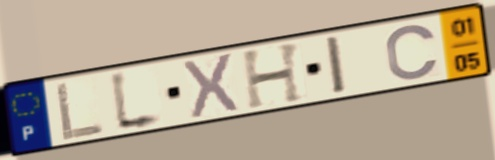C: (383, 22, 442, 82)
H: (239, 39, 307, 112)
I: (323, 33, 350, 97)
L: (108, 66, 168, 136), (53, 79, 107, 143)
X: (180, 50, 241, 121)
